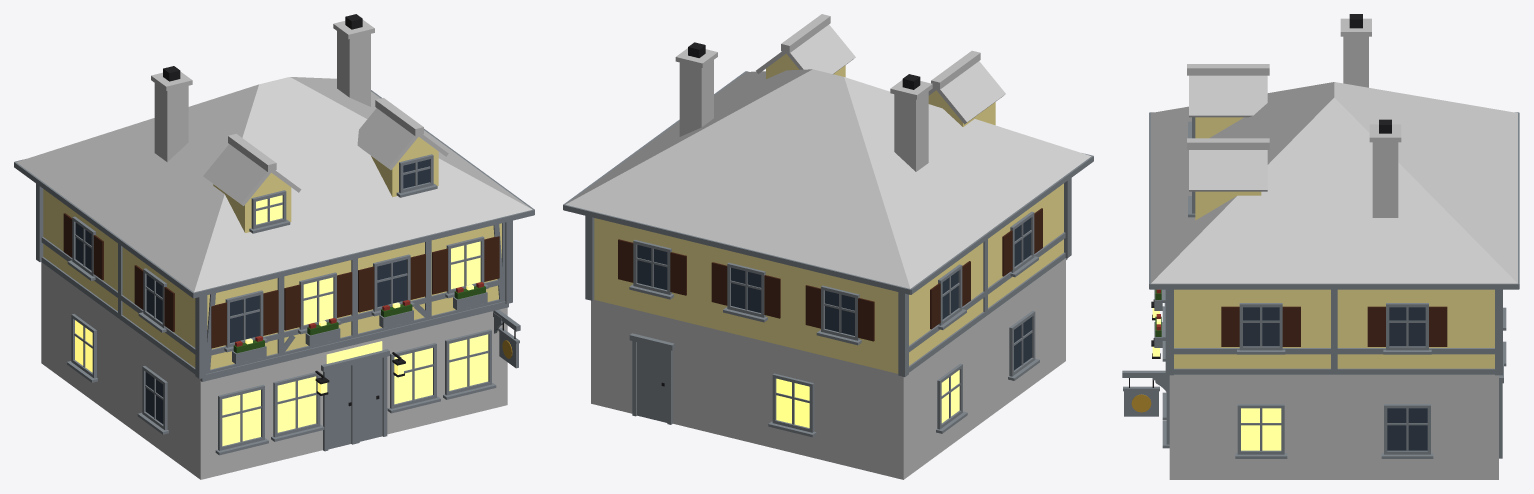
File: lantern_inn.gltf
3 renders of one model, left to right at view 1: azimuth 30°, elevation 25°; view 2: azimuth 150°, elevation 25°; view 3: azimuth 270°, elevation 25°, orthographic. The views are drawn at different scales.
Visible parts, largest first — view 1: lantern_inn; view 2: lantern_inn; view 3: lantern_inn.
Part boxes in pixels (x1,y1,x2,y2): lantern_inn: [14, 14, 534, 479]; lantern_inn: [563, 14, 1093, 479]; lantern_inn: [1122, 14, 1519, 479].
Size of the model in its own units: 11.14 by 10.25 by 10.87.
